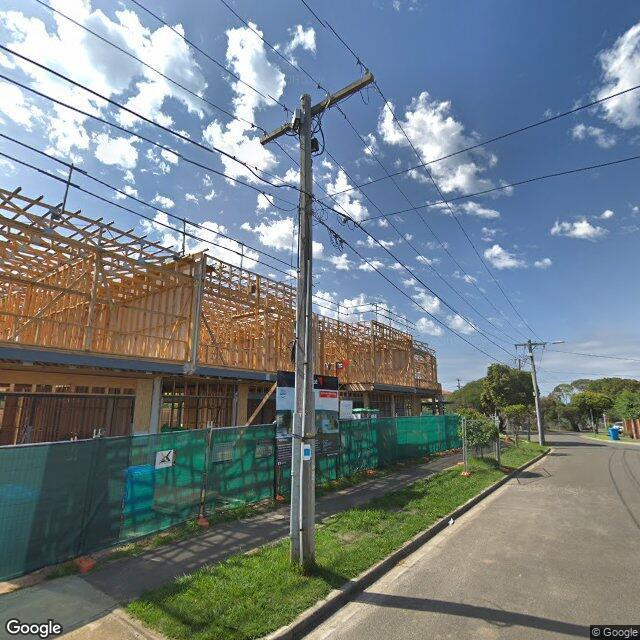crossarm: (260, 73, 374, 146), (514, 342, 546, 346)
streetlight: (545, 341, 565, 344)
timber-pole: (294, 93, 316, 567), (528, 339, 546, 446)
